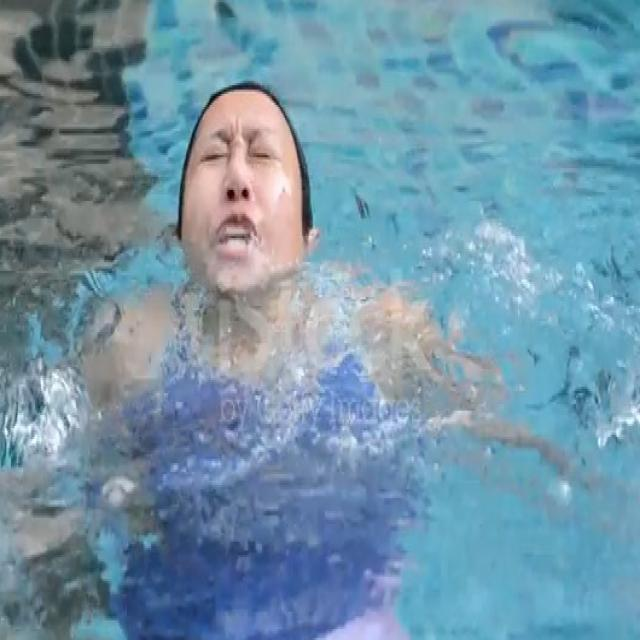Drowning: (72, 74, 443, 410)
